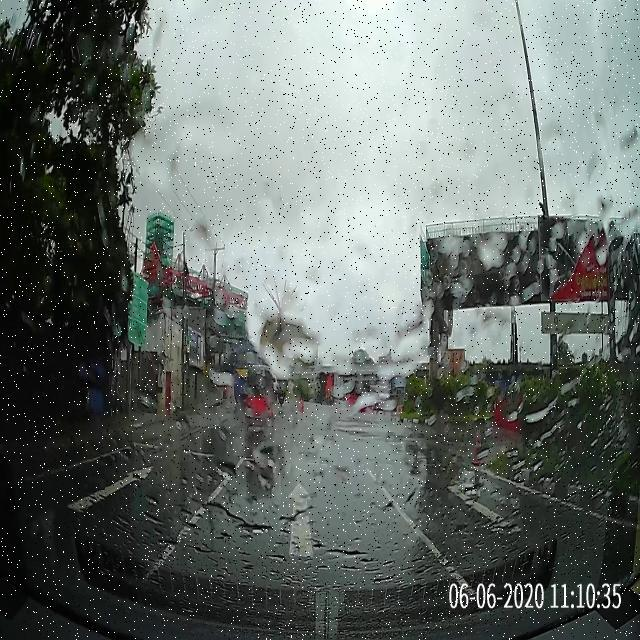forward: (158, 481, 445, 555)
